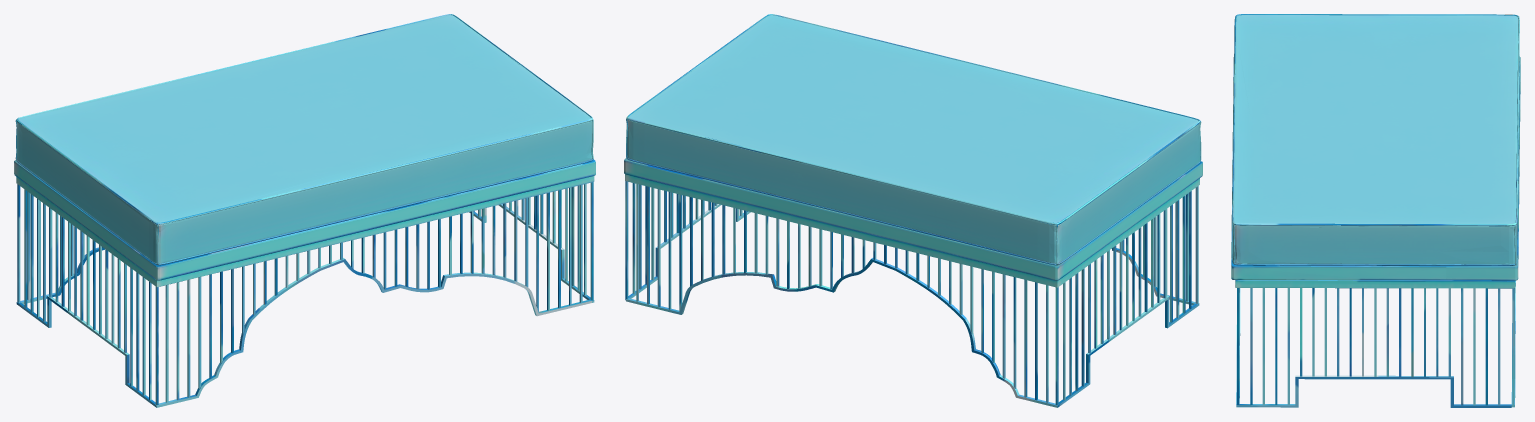
Rendered from edited_mesh.glb.
3 renders of one model, left to right at view 1: azimuth 30°, elevation 25°; view 2: azimuth 150°, elevation 25°; view 3: azimuth 270°, elevation 25°, orthographic.
Parts seen in each view (by area): view 1: solid_001_wire; view 2: solid_001_wire; view 3: solid_001_wire.
Boxes of the visible parts, x1,y1,x2,y2 form: solid_001_wire: (14,14,595,407); solid_001_wire: (624,14,1202,407); solid_001_wire: (1231,14,1520,407).
Size of the model in its own units: 2 by 0.8071 by 1.16.
1 material, 1 textured.
